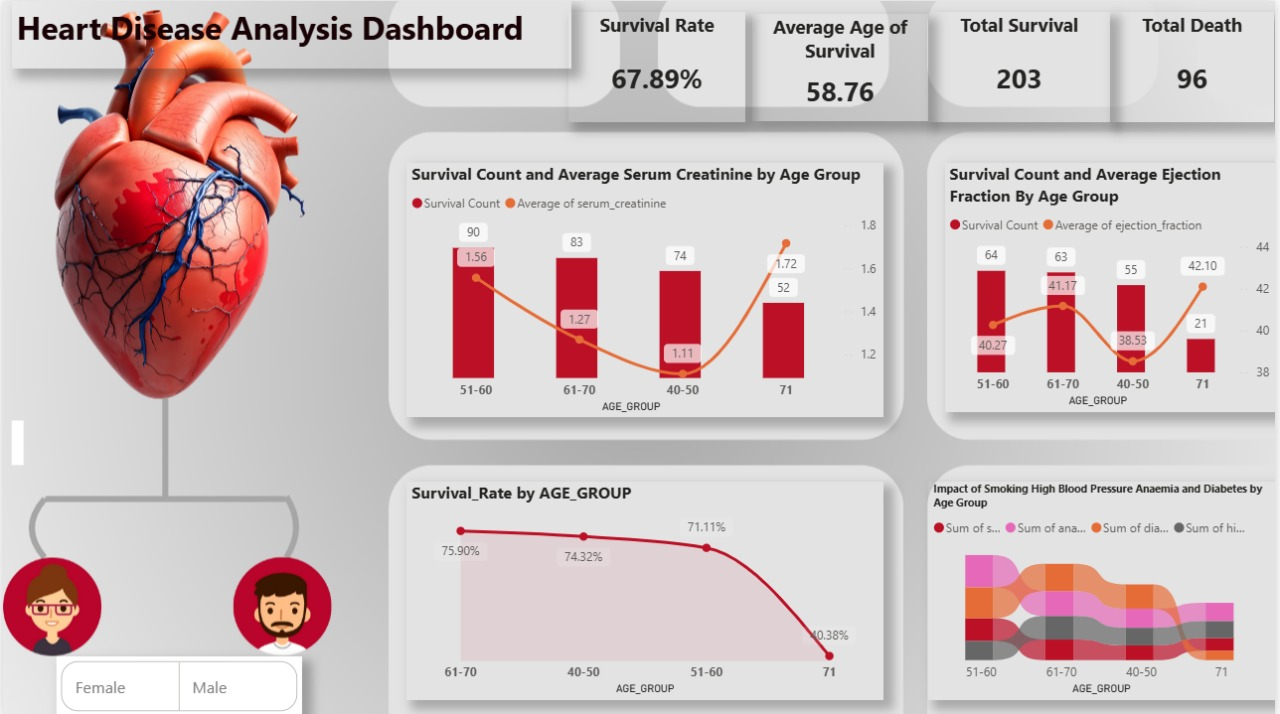

This screenshot's page, from the dashboard's own definition file:
{"tool":"powerbi","page":{"name":"Heart Diisease Analysis","canvas":[1280,720],"ordinal":0},"visuals":[{"type":"textbox","box":[9.2,0,563.1,67.7],"z":0},{"type":"card","title":"Survival Rate","fields":{"Values":["heart_Disease_clinical_records_.Survival_Rate"]},"box":[568.6,11.4,178.6,110],"z":1000},{"type":"card","title":"Average Age of Survival","fields":{"Values":["heart_Disease_clinical_records_.Average_Age_Survival"]},"box":[754.3,12.9,177.1,108.6],"z":2000},{"type":"card","title":"Total Survival","fields":{"Values":["heart_Disease_clinical_records_.Total_Surviour"]},"box":[931.4,11.4,182.9,110],"z":3000},{"type":"card","title":"Total Death","fields":{"Values":["heart_Disease_clinical_records_.Total_Death"]},"box":[1114.3,11.4,165.7,111.4],"z":4000},{"type":"textbox","box":[9.2,423.1,12.3,44.6],"z":5000},{"type":"lineClusteredColumnComboChart","title":"Survival Count and Average Serum Creatinine by Age Group","fields":{"Category":["heart_Disease_clinical_records_.AGE_GROUP"],"Y":["CountNonNull(heart_Disease_clinical_records_.DEATH_EVENT)"],"Y2":["Avg(heart_Disease_clinical_records_.serum_creatinine)"]},"box":[405.7,162.9,480,257.1],"z":6000},{"type":"lineClusteredColumnComboChart","title":"Survival Count and Average Ejection Fraction By Age Group","fields":{"Category":["heart_Disease_clinical_records_.AGE_GROUP"],"Y":["CountNonNull(heart_Disease_clinical_records_.DEATH_EVENT)"],"Y2":["Avg(heart_Disease_clinical_records_.ejection_fraction)"]},"box":[947.1,162.9,332.9,251.4],"z":7000},{"type":"lineChart","fields":{"Category":["heart_Disease_clinical_records_.AGE_GROUP"],"Y":["heart_Disease_clinical_records_.Survival_Rate"]},"box":[405.7,484.3,480,220],"z":8000},{"type":"ribbonChart","title":"Impact of Smoking High Blood Pressure Anaemia and Diabetes by Age Group","fields":{"Category":["heart_Disease_clinical_records_.AGE_GROUP"],"Y":["Sum(heart_Disease_clinical_records_.smoking)","Sum(heart_Disease_clinical_records_.anaemia)","Sum(heart_Disease_clinical_records_.diabetes)","Sum(heart_Disease_clinical_records_.high_blood_pressure)"]},"box":[931.4,484.3,348.6,220],"z":9000},{"type":"advancedSlicerVisual","fields":{"Values":["heart_Disease_clinical_records_.Gender"]},"box":[54.3,660,247.1,60],"z":10000}]}

Visuals, with their boxes in screenshot pixels (x1, y1, x2, y2), scaled from the page's 1280x720 canvas onto the 1280x714 screenshot:
textbox: (9,0,572,67)
"Survival Rate" card: (569,11,747,120)
"Average Age of Survival" card: (754,13,931,120)
"Total Survival" card: (931,11,1114,120)
"Total Death" card: (1114,11,1279,122)
textbox: (9,420,22,464)
"Survival Count and Average Serum Creatinine by Age Group" lineClusteredColumnComboChart: (406,162,886,416)
"Survival Count and Average Ejection Fraction By Age Group" lineClusteredColumnComboChart: (947,162,1279,411)
lineChart - heart_Disease_clinical_records_.AGE_GROUP x heart_Disease_clinical_records_.Survival_Rate: (406,480,886,698)
"Impact of Smoking High Blood Pressure Anaemia and Diabetes by Age Group" ribbonChart: (931,480,1279,698)
advancedSlicerVisual - heart_Disease_clinical_records_.Gender: (54,654,301,713)
